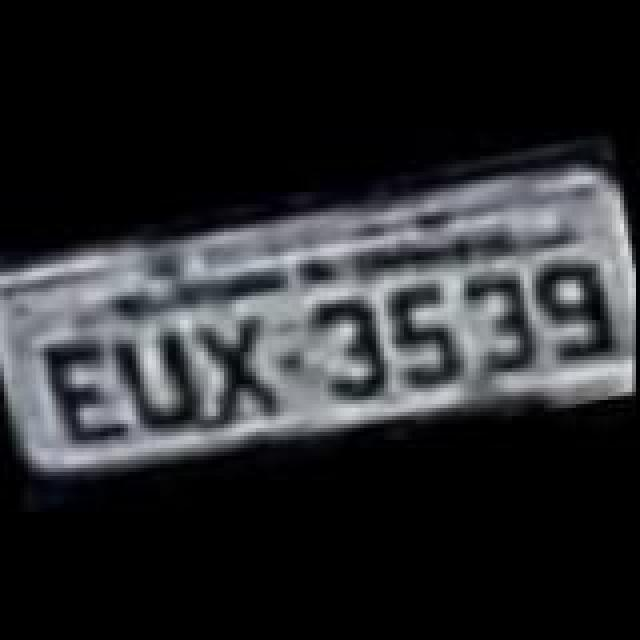3: (448, 250, 552, 386), (300, 282, 396, 410)
5: (372, 270, 468, 394)
9: (524, 236, 628, 376)
E: (38, 328, 142, 456)
U: (114, 314, 210, 434)
X: (178, 302, 290, 430)
